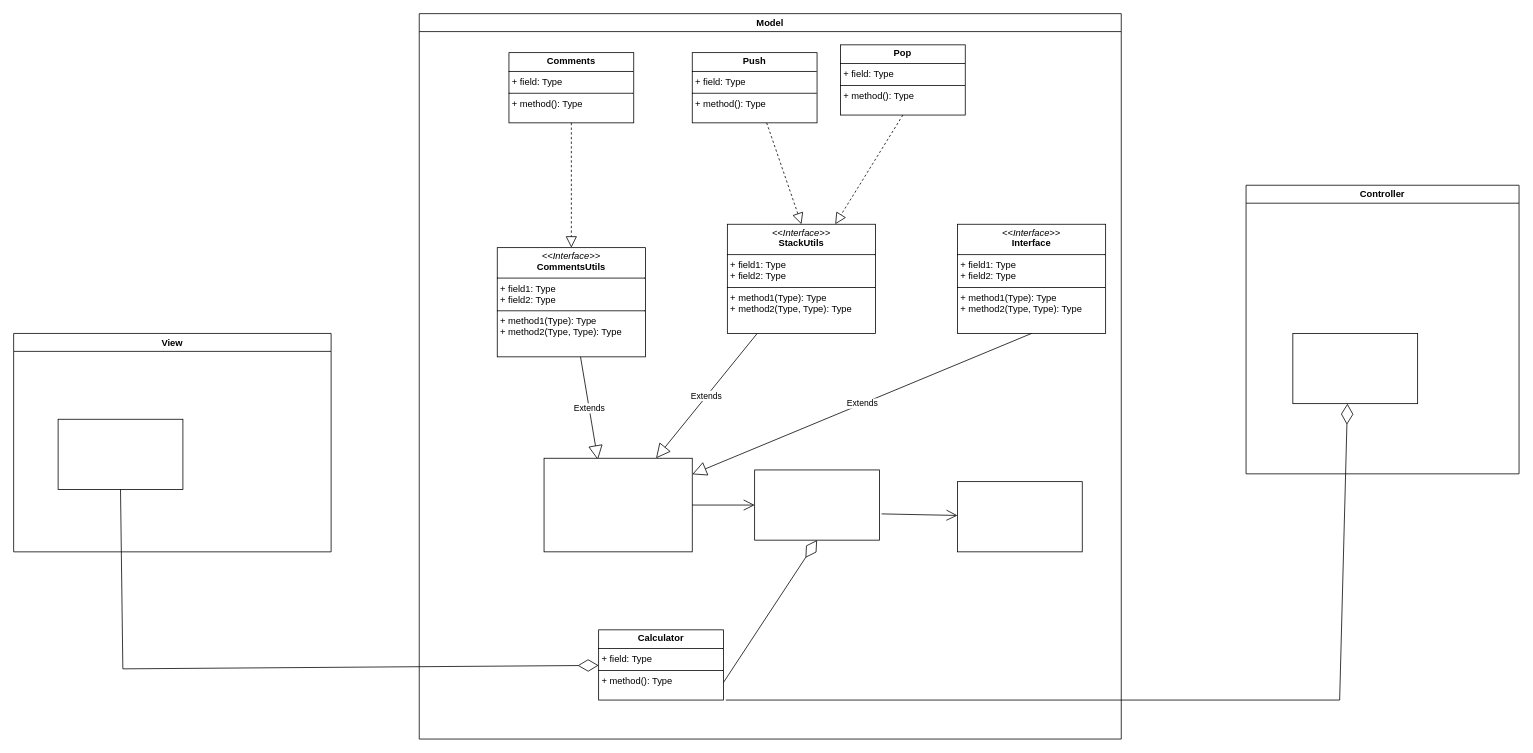
Some shapes in this 1533 by 753 pixel diagram are drawn without their labels. The centre of each missing label's shape, as x and y in pixels:
<<Interface>> Operations + field1: Type + field2: Type + run(Array<Objects>): the point at 617,504
CommadParser + field: Type + method(): Type: the point at 120,453
OperationsFabric + field: Type + method(): Type: the point at 816,504
OperationsScanner Подгружает классы: the point at 1019,516
Printer + field: Type + method(): Type: the point at 1355,368
